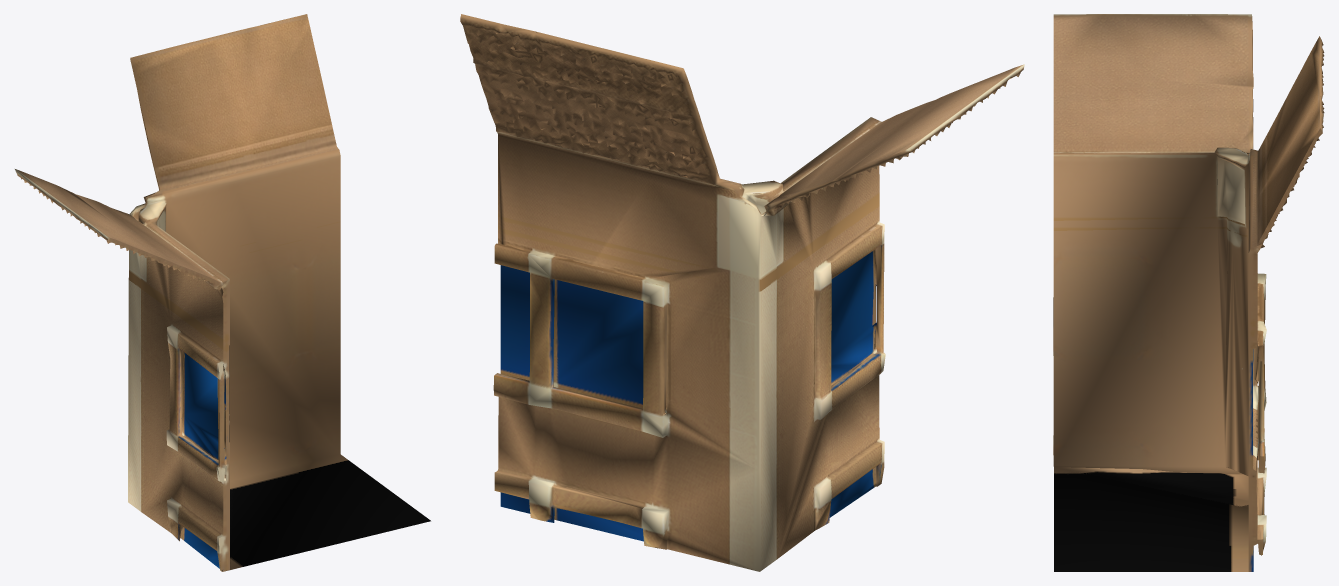
File: 15-topper-back-left.fbx
3 views of the same model, side by side, from view 1: azimuth 30°, elevation 25°; view 2: azimuth 150°, elevation 25°; view 3: azimuth 270°, elevation 25° (orthographic). The views are drawn at different scales.
Parts seen in each view (by area): view 1: topper-back-left; view 2: topper-back-left; view 3: topper-back-left.
Boxes of the visible parts, x1,y1,x2,y2 form: topper-back-left: (15, 14, 430, 571); topper-back-left: (460, 14, 1024, 571); topper-back-left: (1053, 14, 1324, 571).
Bounding box in the file's own units: 7187 × 8797 × 4862.
1 material, 1 textured.
